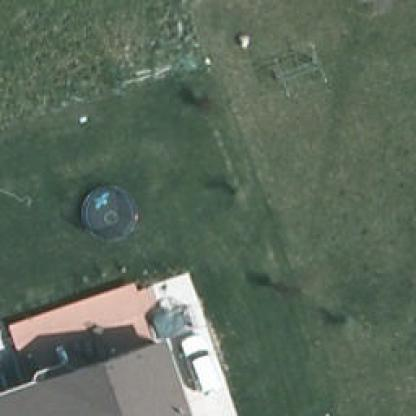car: (168, 333, 220, 393)
